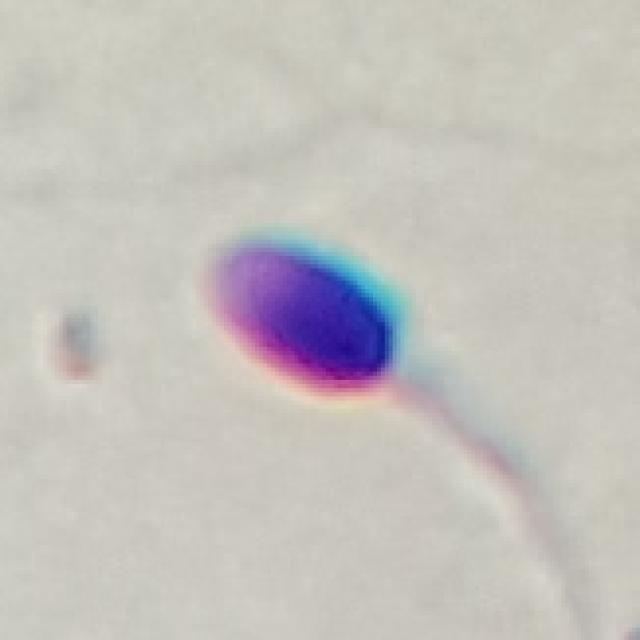normal sperm: (201, 234, 487, 458)
